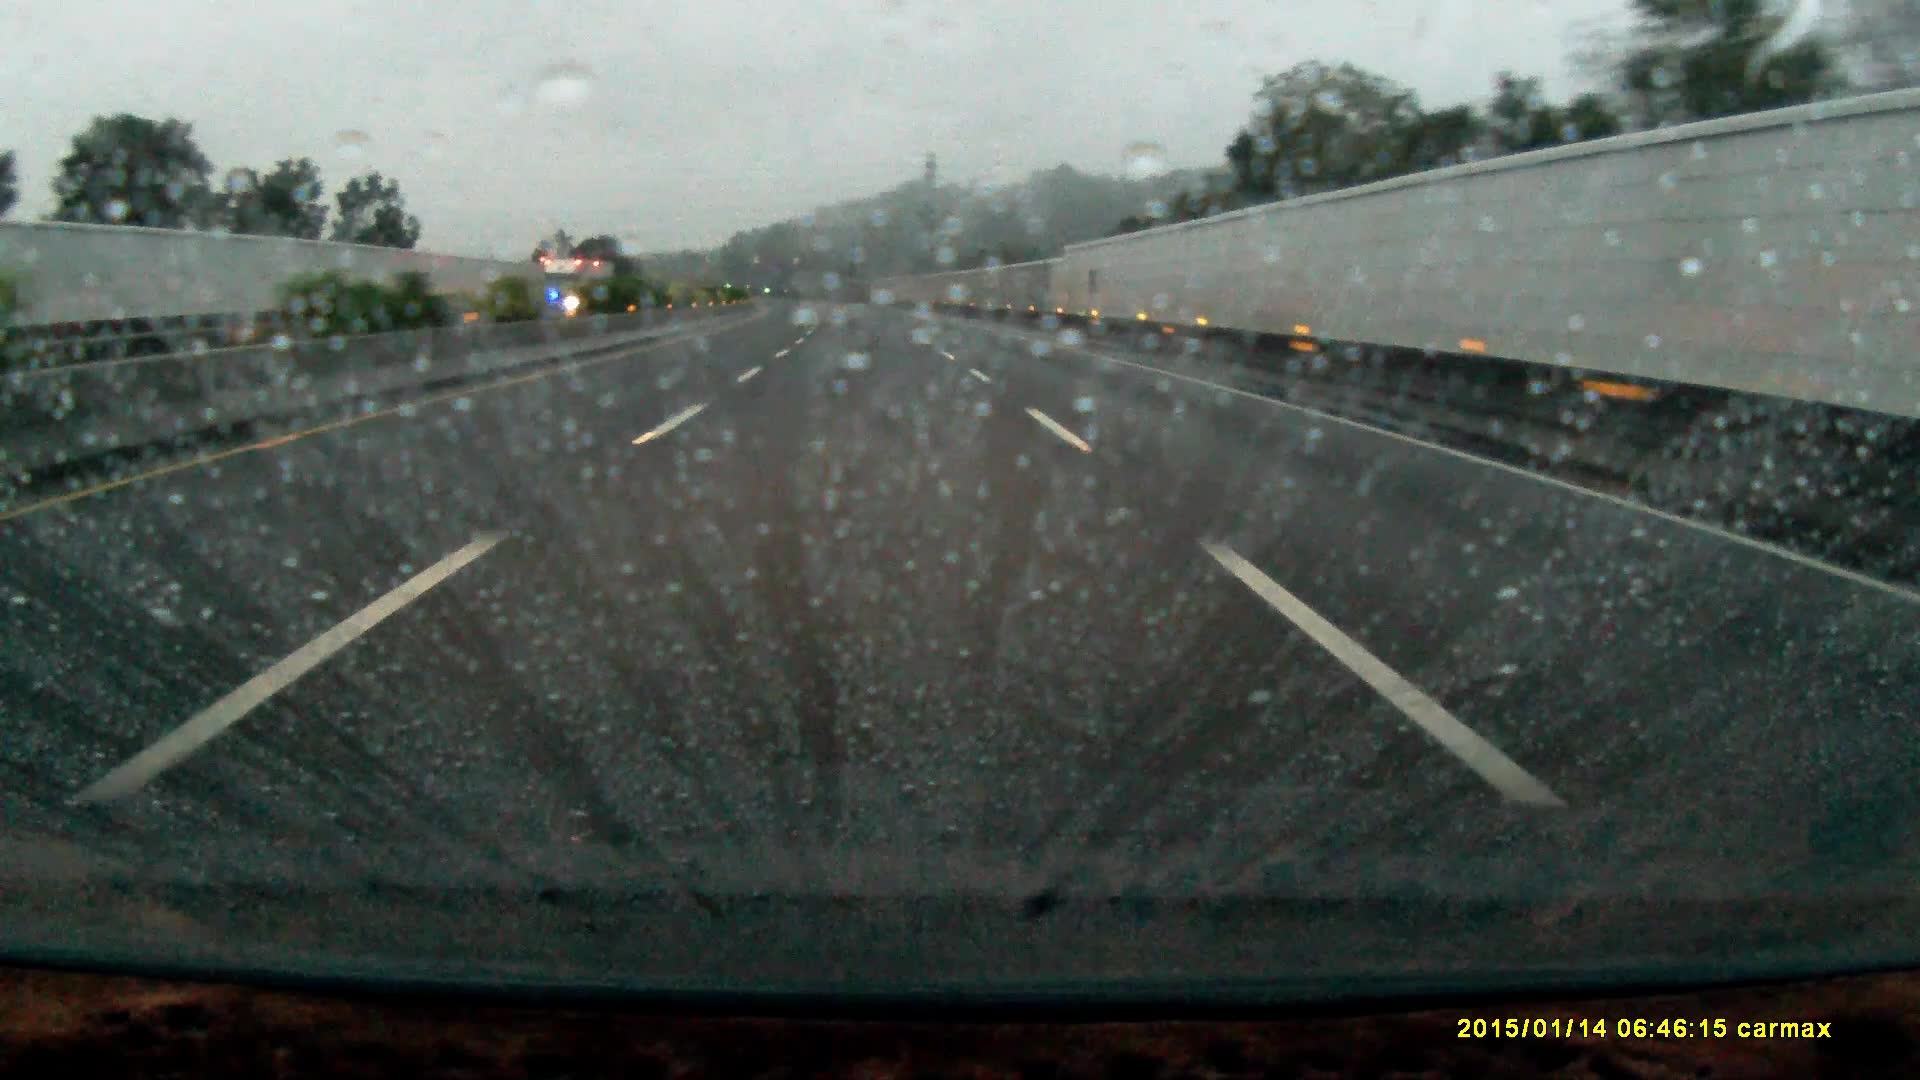vehicle: (541, 255, 615, 311)
